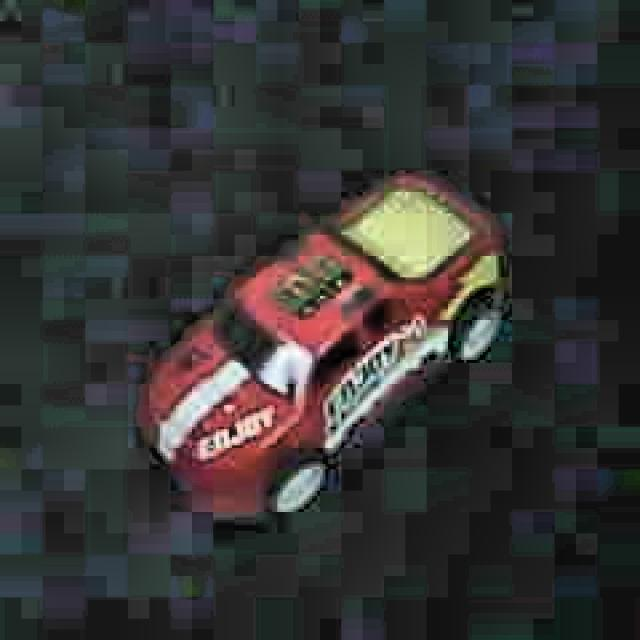car: (135, 163, 514, 532)
